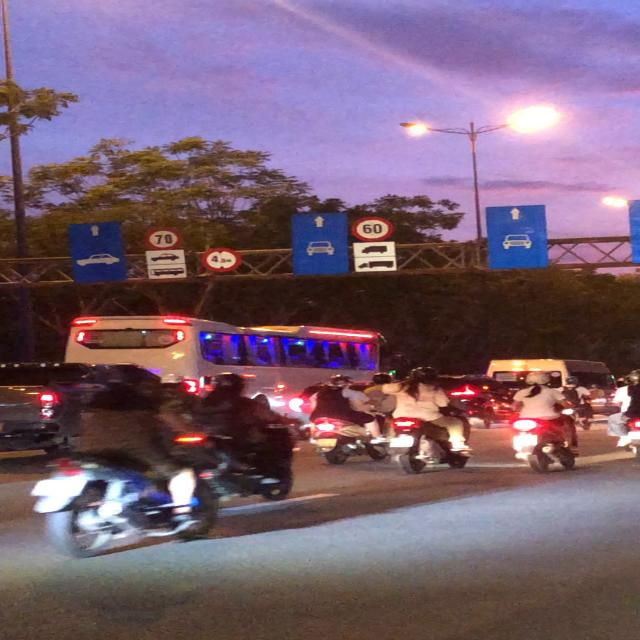Bien bao han che chieu cao: (200, 244, 242, 274)
Bien bao toc do toi da cho phep: (347, 212, 398, 242), (140, 226, 184, 251)
